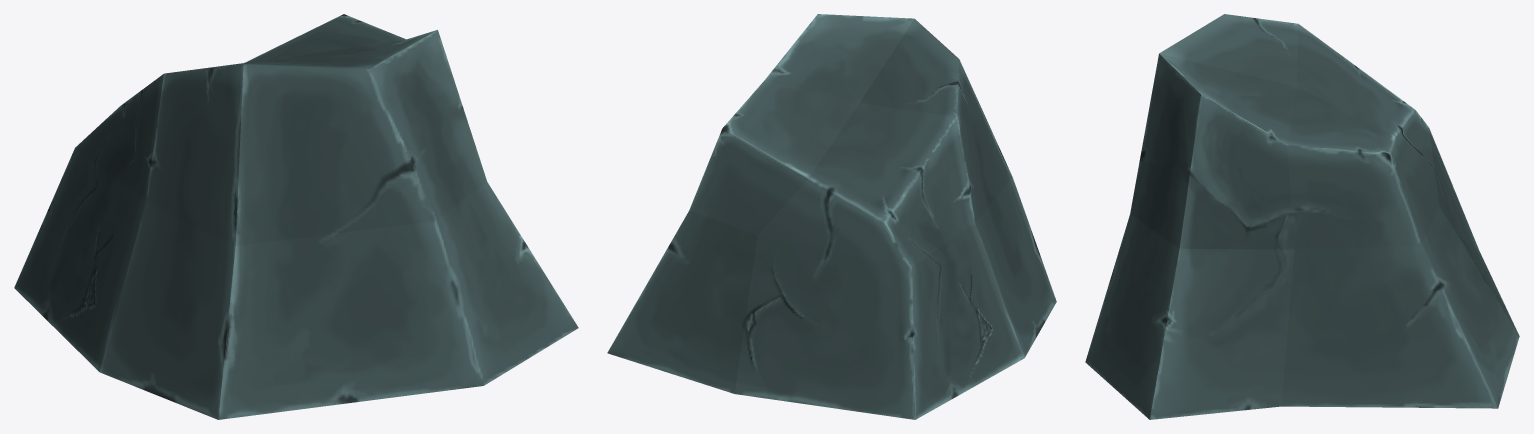
File: rock_1.1.fbx
3 views of the same model, side by side, from view 1: azimuth 30°, elevation 25°; view 2: azimuth 150°, elevation 25°; view 3: azimuth 270°, elevation 25° (orthographic). The views are drawn at different scales.
Parts seen in each view (by area): view 1: rock1; view 2: rock1; view 3: rock1.
Boxes of the visible parts, bbox=[...] form: rock1: bbox=[14, 14, 578, 419]; rock1: bbox=[607, 14, 1056, 419]; rock1: bbox=[1085, 14, 1519, 419].
Bounding box in the file's own units: 278 × 232 × 285.
Materials: 1 (1 with a texture image).
